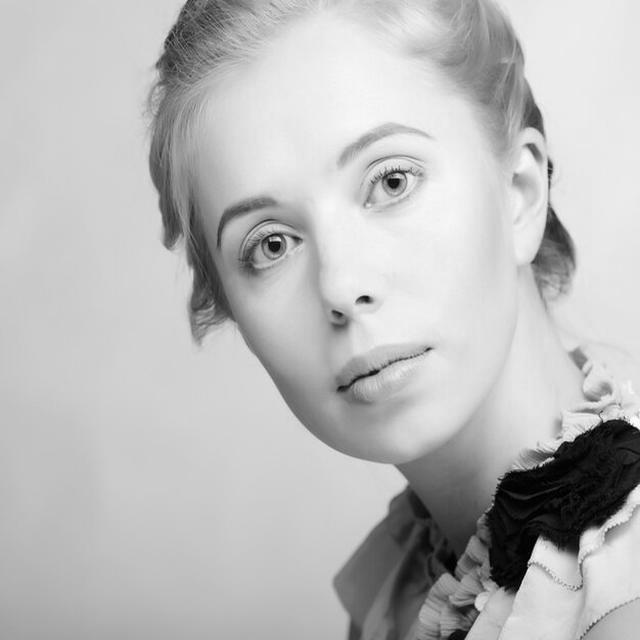Neutral: (189, 32, 516, 464)
